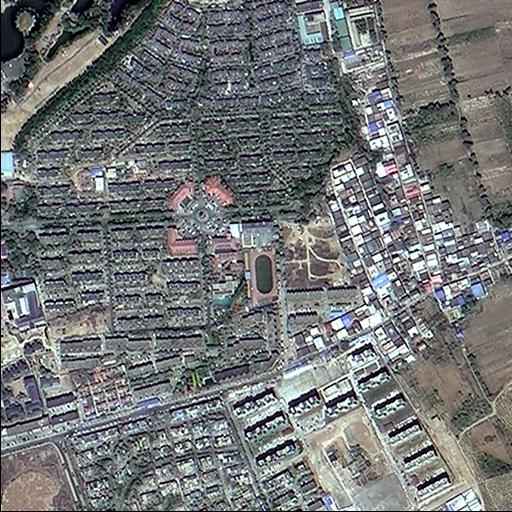school: (240, 216, 279, 309)
